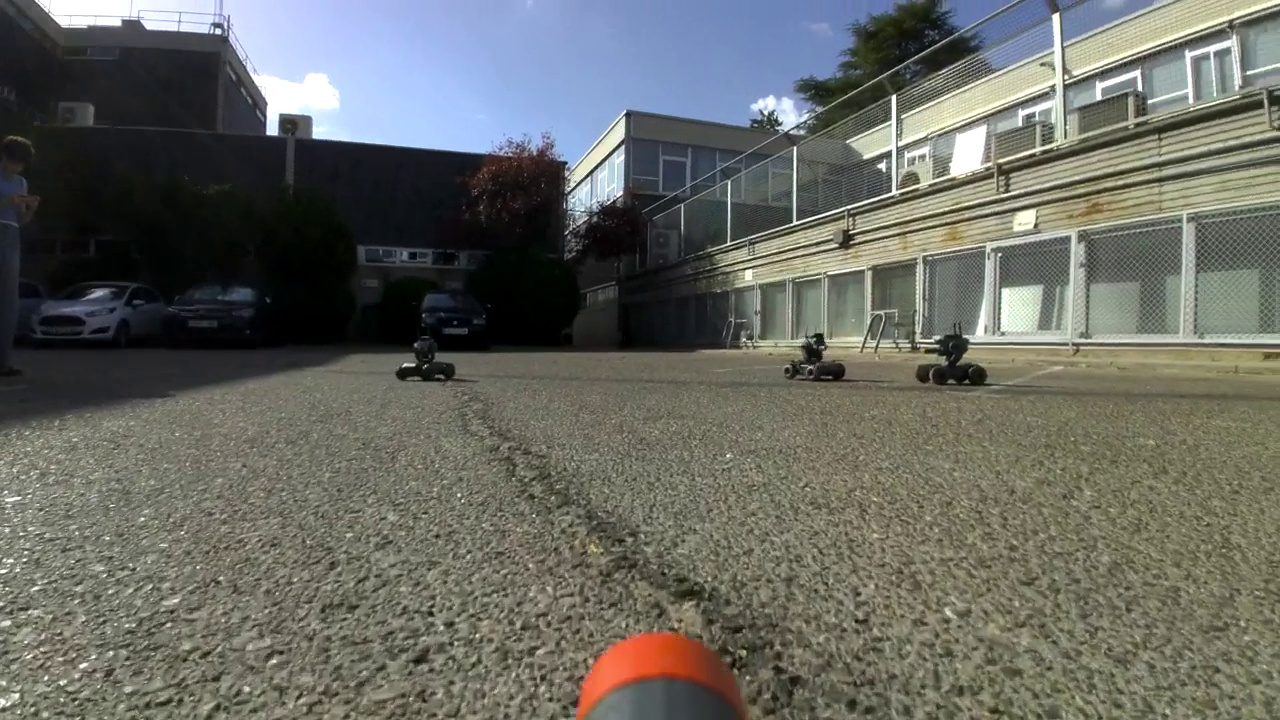robot: (916, 320, 987, 389), (395, 324, 459, 382), (785, 327, 847, 381)
